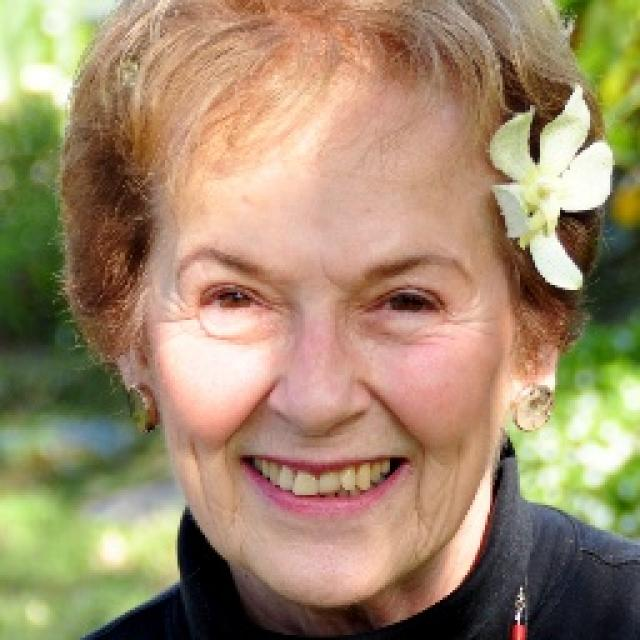earlobe: (510, 364, 556, 416), (123, 376, 163, 427)
eye: (360, 282, 449, 327), (195, 280, 281, 323)
nose: (263, 411, 368, 454)
wholeear: (102, 255, 163, 428), (509, 262, 570, 416)
